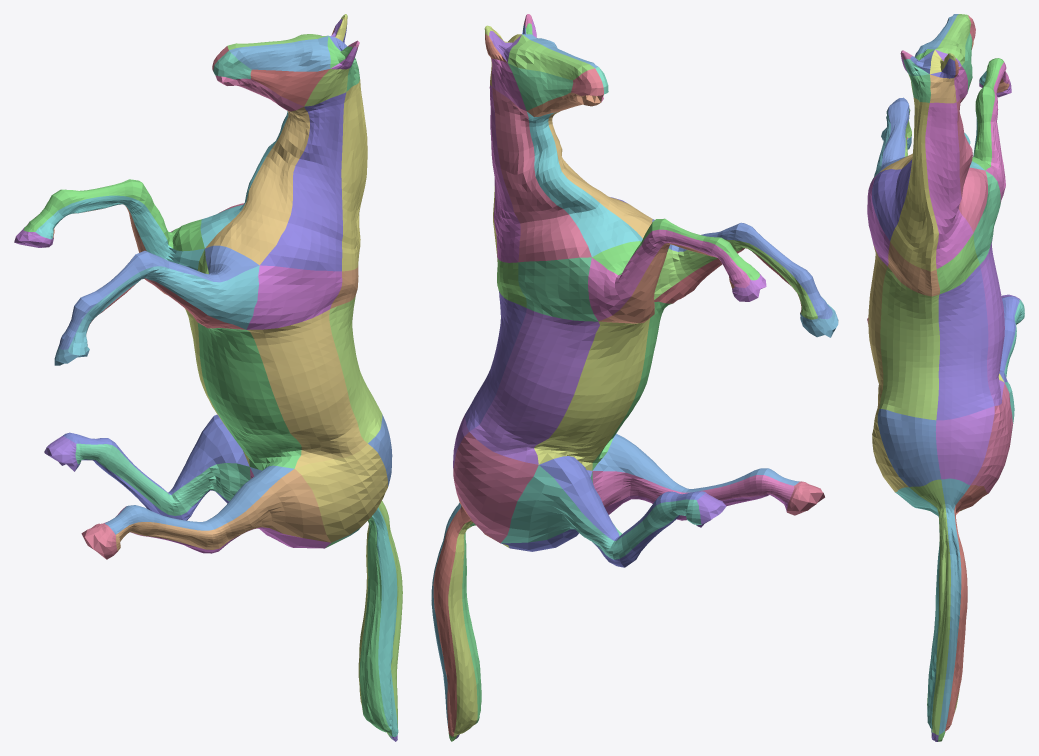
File: horse01_output.obj
3 views of the same model, side by side, from view 1: azimuth 30°, elevation 25°; view 2: azimuth 150°, elevation 25°; view 3: azimuth 270°, elevation 25° (orthographic). The views are drawn at different scales.
Bounding box in the file's own units: 0.7021 × 1.31 × 0.2789.
